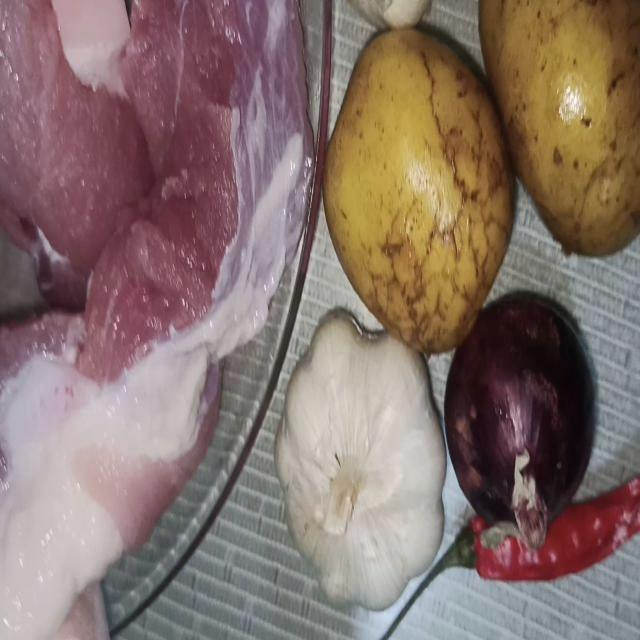chili_pepper: (391, 489, 640, 639)
garlic: (241, 287, 446, 640)
onion: (421, 265, 602, 563)
pork: (0, 270, 249, 640), (118, 0, 321, 287), (0, 0, 148, 271)
potato: (309, 11, 537, 349), (464, 0, 640, 324)
